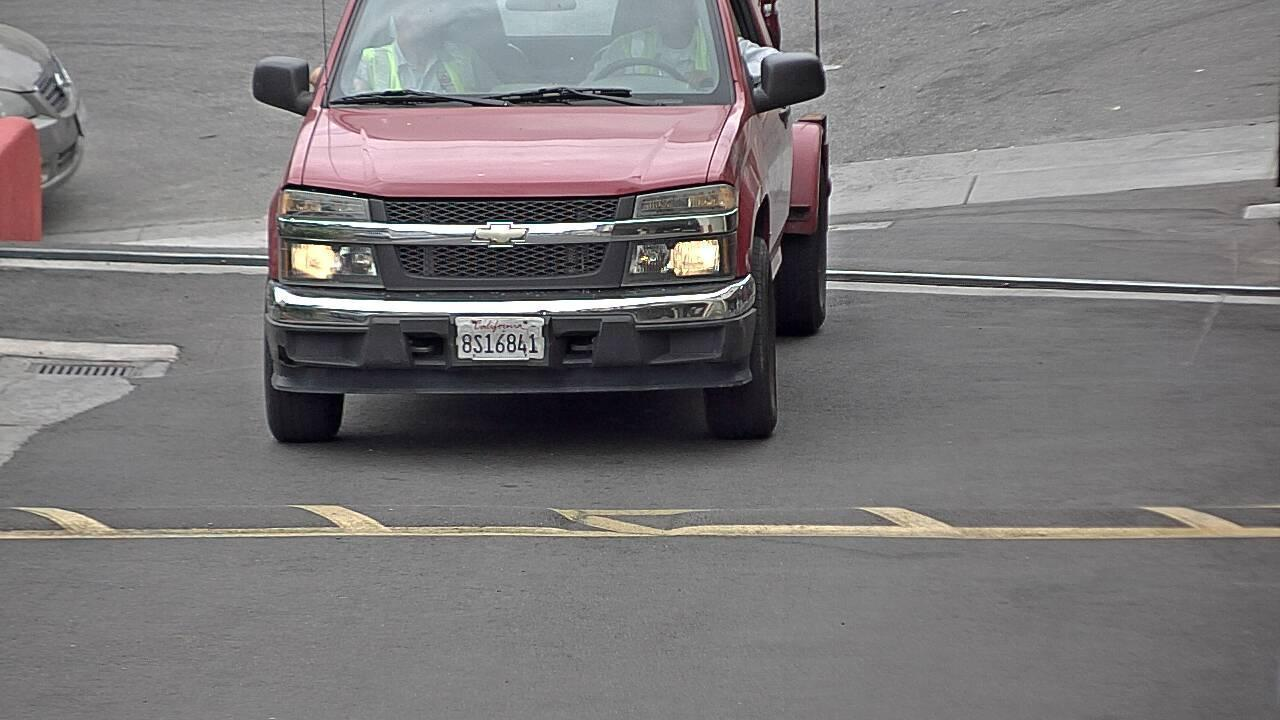placa de veiculo: (437, 306, 570, 374)
